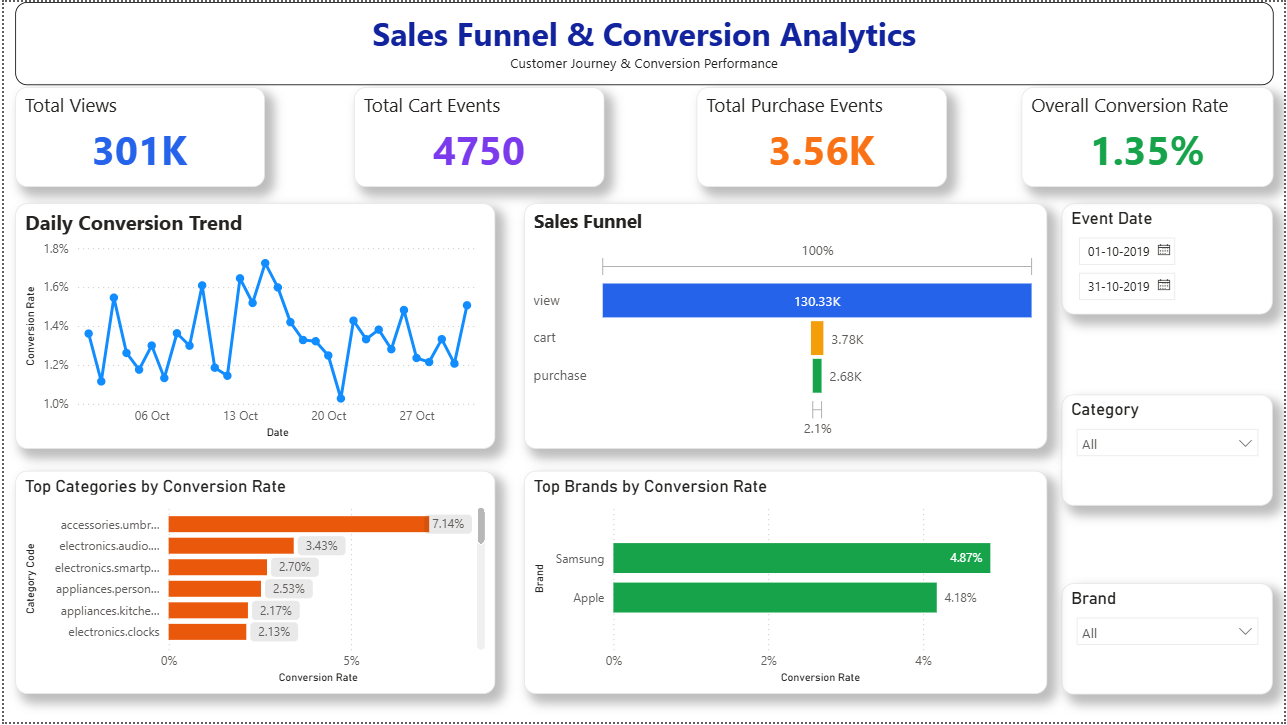

What the dashboard file says about the page in this screenshot:
{"tool":"powerbi","page":{"name":"Sales Funnel & Conversion Analytics","canvas":[1280,720],"ordinal":3},"visuals":[{"type":"textbox","box":[11,0,1258.3,83.2],"z":0},{"type":"slicer","title":"Event Date","fields":{"Values":["events.event_date"]},"box":[1057.8,201.8,211.6,111.3],"z":1000},{"type":"slicer","title":"Category","fields":{"Values":["categories.category_code"]},"box":[1057.8,392.5,211.6,111.3],"z":2000},{"type":"slicer","title":"Brand","fields":{"Values":["products.brand"]},"box":[1057.8,580.8,211.6,111.3],"z":3000},{"type":"card","title":"Total Views","fields":{"Values":["Measures (2).Total Views"]},"box":[11,84.4,249.5,100.3],"z":4000},{"type":"card","title":"Total Cart Events","fields":{"Values":["Measures (2).Total Cart Events"]},"box":[349.7,84.4,250.7,100.3],"z":5000},{"type":"card","title":"Total Purchase Events","fields":{"Values":["Measures (2).Total Purchasing Customers"]},"box":[692.1,84.4,250.7,100.3],"z":6000},{"type":"card","title":"Overall Conversion Rate","fields":{"Values":["Measures (2).Conversion Rate"]},"box":[1017.4,84.4,251.9,100.3],"z":7000},{"type":"lineChart","title":"Daily Conversion Trend","fields":{"Category":["events.event_date"],"Y":["Measures (2).Conversion Rate"]},"box":[11.3,201.8,480.2,245.7],"z":8000},{"type":"funnel","title":"Sales Funnel","fields":{"Category":["events.event_type"],"Y":["CountNonNull(events.event_id)"]},"box":[519.6,201.8,523,245.7],"z":9000},{"type":"clusteredBarChart","title":"Top Categories by Conversion Rate","fields":{"Category":["categories.category_code"],"Y":["Measures (2).Conversion Rate"]},"box":[11.3,468.9,480.2,223.2],"z":10000},{"type":"clusteredBarChart","title":"Top Brands by Conversion Rate","fields":{"Category":["products.brand"],"Y":["Measures (2).Conversion Rate"]},"box":[519.6,468.9,523,223.2],"z":11000}]}

Visuals, with their boxes in screenshot pixels (x1, y1, x2, y2), scaled from the page's 1280x720 canvas onto the 1287x725 screenshot:
textbox: bbox(11, 0, 1276, 84)
"Event Date" slicer: bbox(1064, 203, 1276, 315)
"Category" slicer: bbox(1064, 395, 1276, 507)
"Brand" slicer: bbox(1064, 585, 1276, 697)
"Total Views" card: bbox(11, 85, 262, 186)
"Total Cart Events" card: bbox(352, 85, 604, 186)
"Total Purchase Events" card: bbox(696, 85, 948, 186)
"Overall Conversion Rate" card: bbox(1023, 85, 1276, 186)
"Daily Conversion Trend" lineChart: bbox(11, 203, 494, 451)
"Sales Funnel" funnel: bbox(522, 203, 1048, 451)
"Top Categories by Conversion Rate" clusteredBarChart: bbox(11, 472, 494, 697)
"Top Brands by Conversion Rate" clusteredBarChart: bbox(522, 472, 1048, 697)
